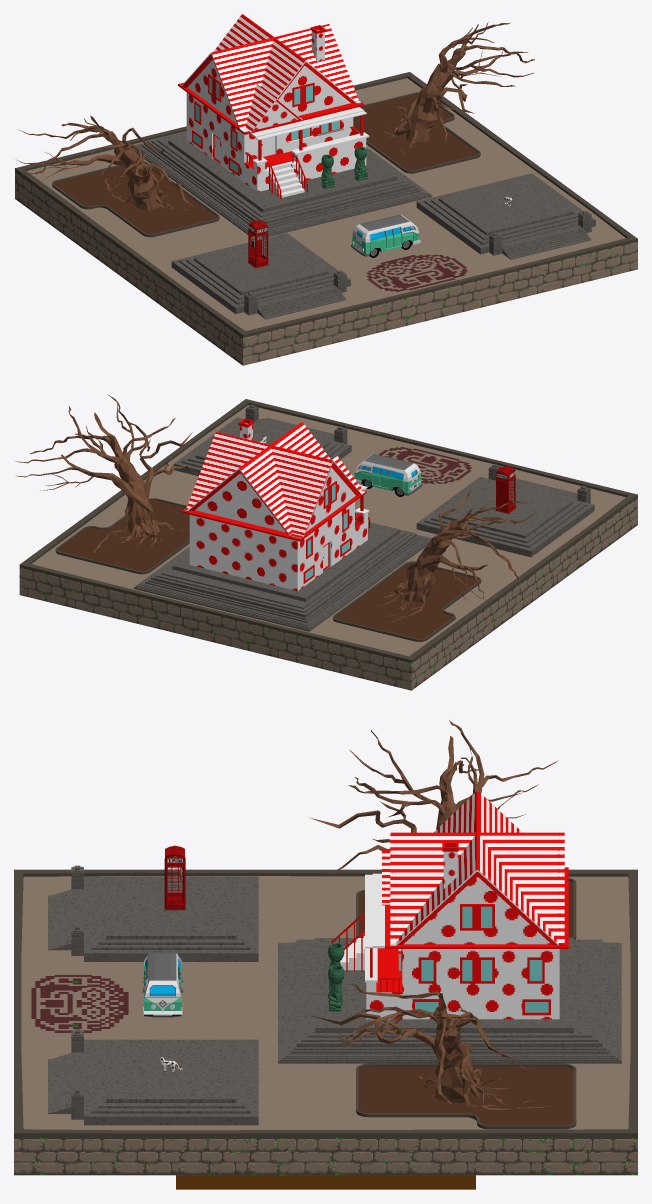
3 views of the same model, one above another, from view 1: azimuth 30°, elevation 25°; view 2: azimuth 150°, elevation 25°; view 3: azimuth 270°, elevation 25° (orthographic). The views are drawn at different scales.
Visible parts, largest first — view 1: Cube.011, Cube.196, VEHICLES_VAN, OBJRANDOM_PHONEBOOTH; view 2: Cube.011, Cube.196, VEHICLES_VAN, OBJRANDOM_PHONEBOOTH; view 3: Cube.011, Cube.196, UNDERGROUND_ART_PIECE_VAN_GOGH, VEHICLES_VAN, OBJRANDOM_PHONEBOOTH.
Boxes of the visible parts, x1,y1,x2,y2 form: Cube.011: (15,22,637,365); Cube.196: (178,14,369,198); VEHICLES_VAN: (351,214,420,257); OBJRANDOM_PHONEBOOTH: (248,220,268,268); Cube.011: (15,395,637,690); Cube.196: (181,418,370,591); VEHICLES_VAN: (354,454,422,496); OBJRANDOM_PHONEBOOTH: (495,466,515,513); Cube.011: (14,720,637,1175); Cube.196: (331,791,568,1019); UNDERGROUND_ART_PIECE_VAN_GOGH: (176,1175,475,1189); VEHICLES_VAN: (142,953,183,1017); OBJRANDOM_PHONEBOOTH: (164,845,185,910).
Bounding box in the file's own units: 5099 × 1785 × 4000.
40 materials, 7 textured.
